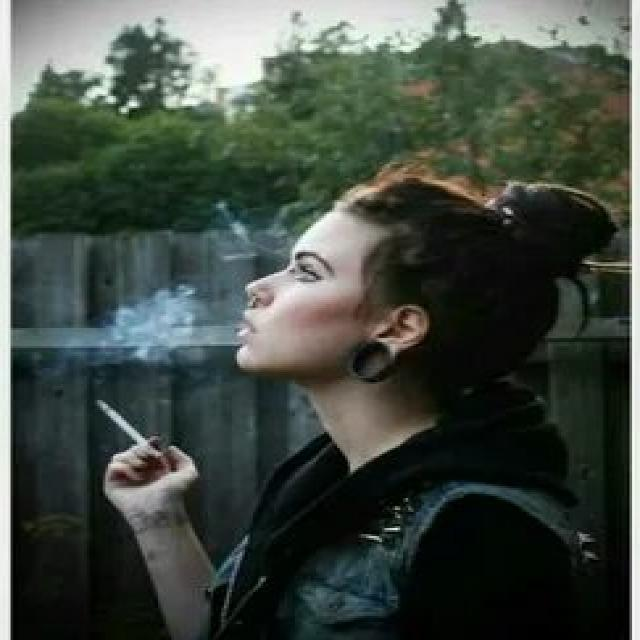smoke: (92, 392, 177, 460)
